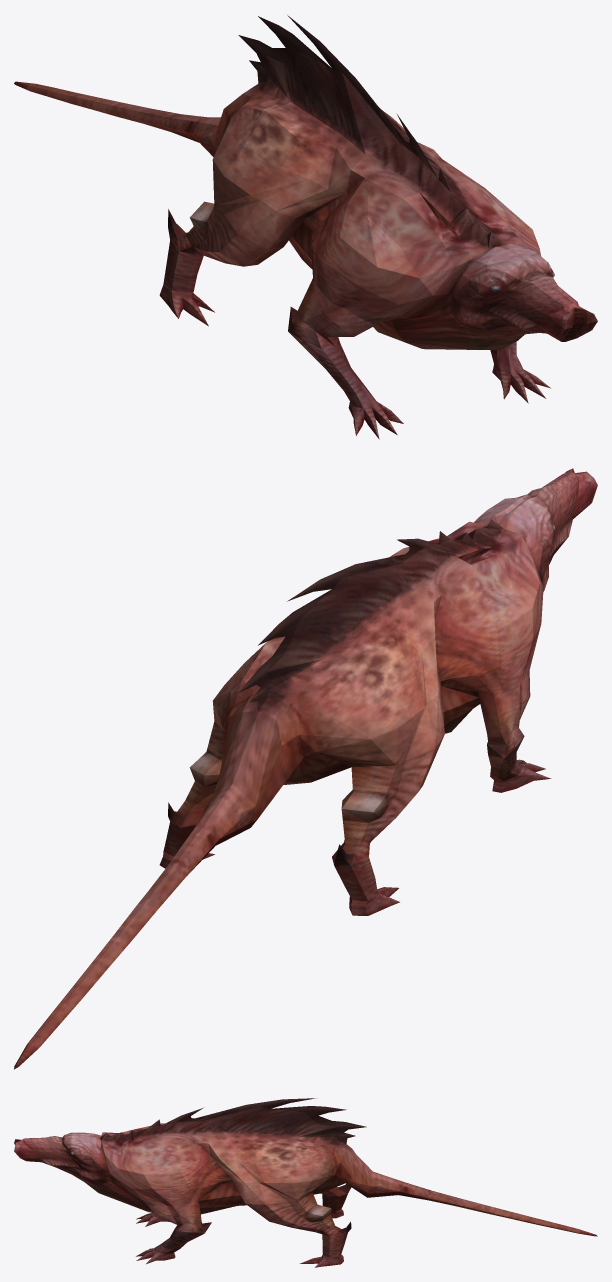
Rendered from swamp-rat-lod0.glb.
The picture shows the model from 3 angles, top to bottom: view 1: azimuth 30°, elevation 25°; view 2: azimuth 150°, elevation 25°; view 3: azimuth 270°, elevation 25°; orthographic projection. The views are drawn at different scales.
Parts seen in each view (by area): view 1: Object_1; view 2: Object_1; view 3: Object_1.
Boxes of the visible parts, x1=… form: Object_1: x1=14, y1=15, x2=597, y2=439; Object_1: x1=14, y1=468, x2=597, y2=1069; Object_1: x1=14, y1=1098, x2=597, y2=1267.
Bounding box in the file's own units: 0.954 × 1.13 × 4.23.
1 material, 1 textured.
